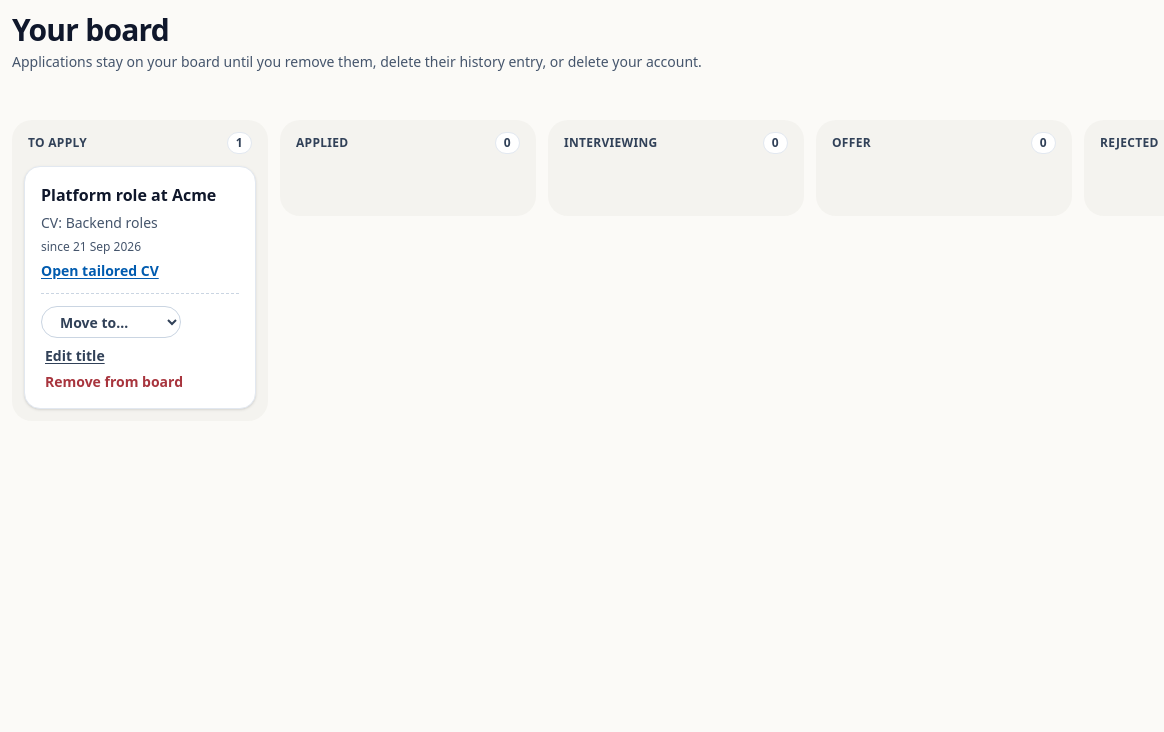
Test case: Retitle (AC-36) › the Save button sends the same request, and shows the server's normalized title
Expected: the text "Platform role at Acme" is shown, [41,183,239,207]
Click the button "Edit title" at (75, 356), box [41,346,109,366]
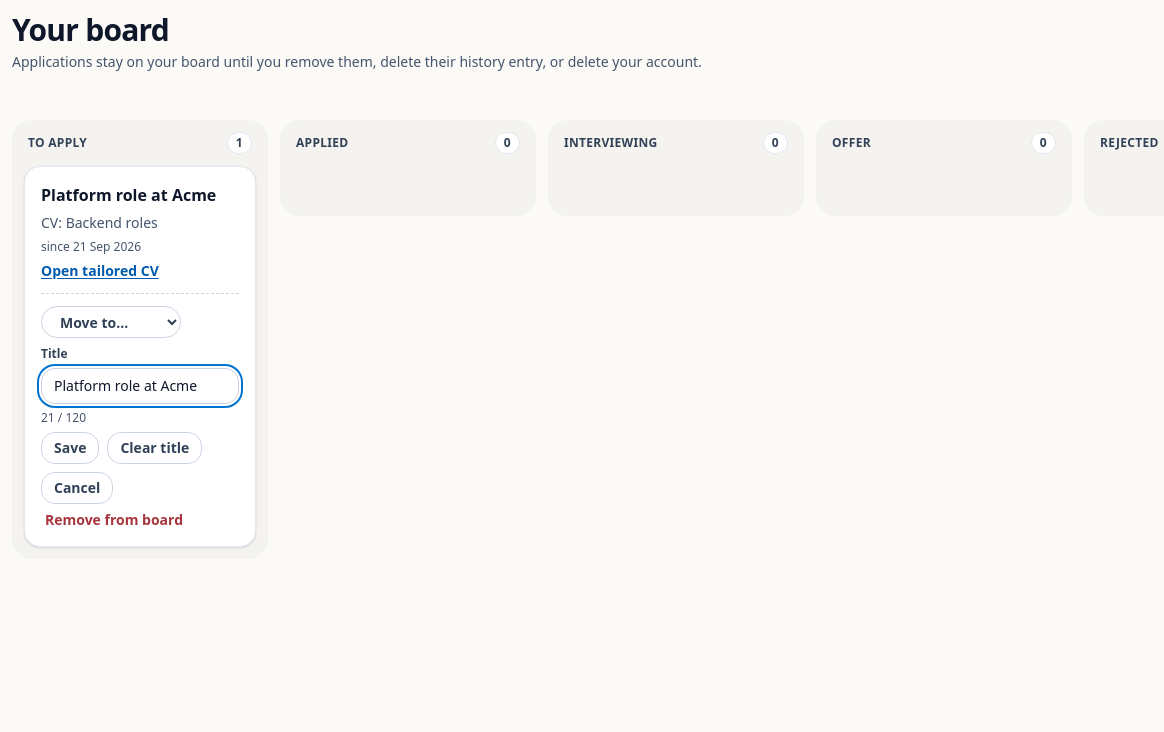
Replace the text in the field labelled "Title" with "  Padded title  " at (140, 386), box [41,368,239,404]
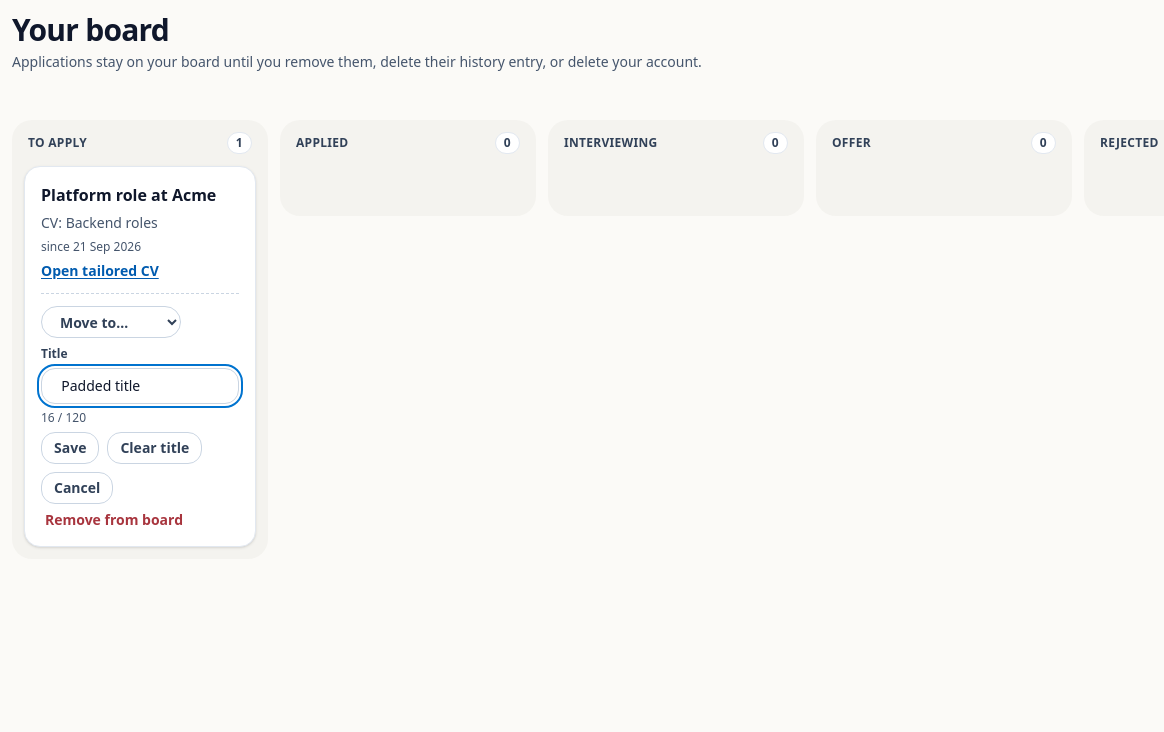
Click the button "Save" at (70, 448), box [41,432,99,464]
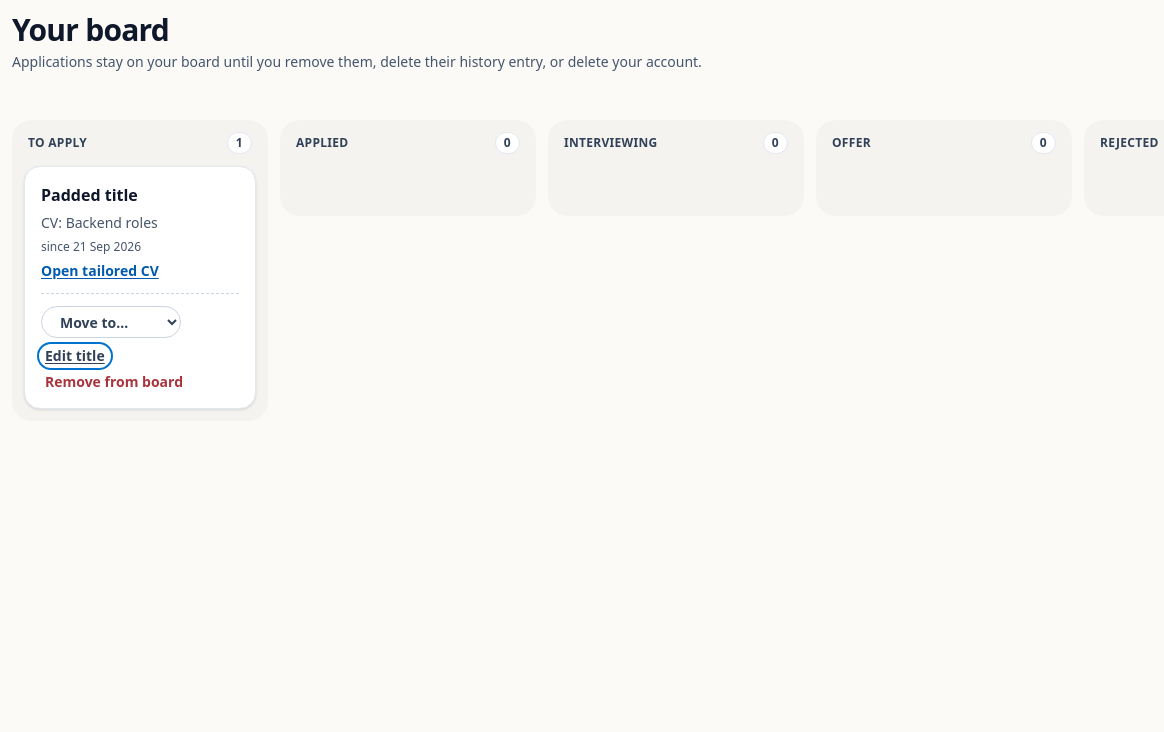
Result: the text "Padded title" is shown at [41,184,138,206]
